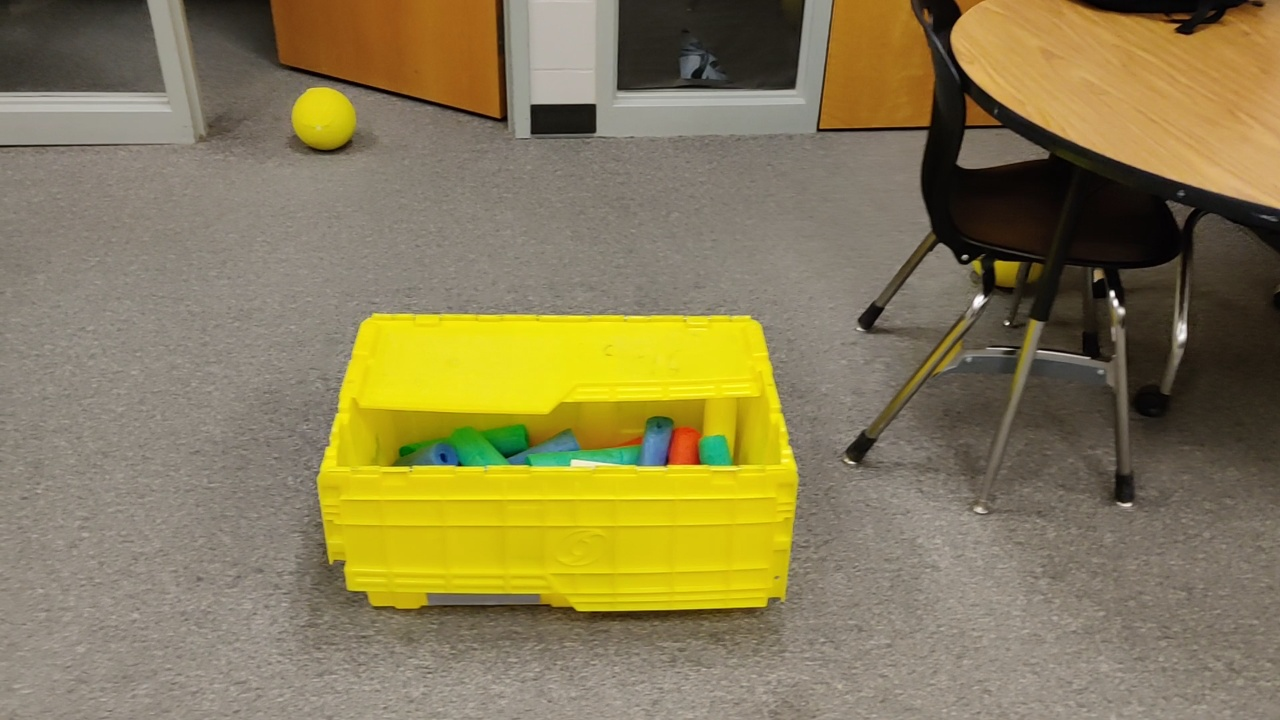Ball: (293, 88, 354, 153), (970, 250, 1043, 292)
